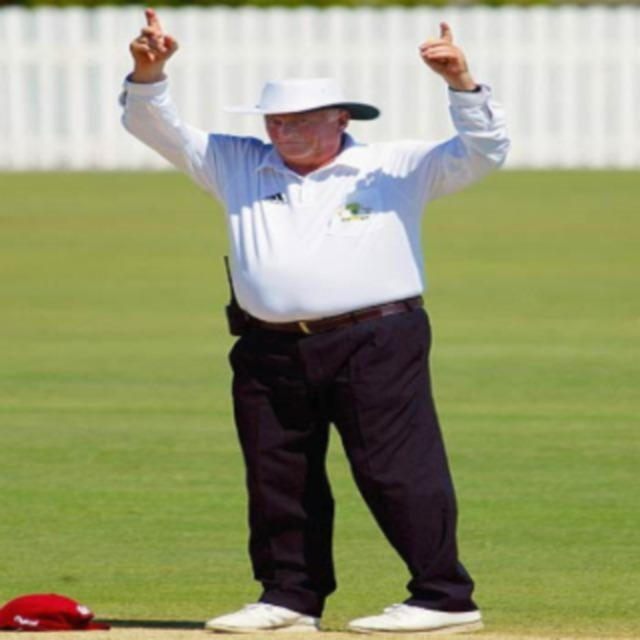Six: (95, 1, 546, 636)
